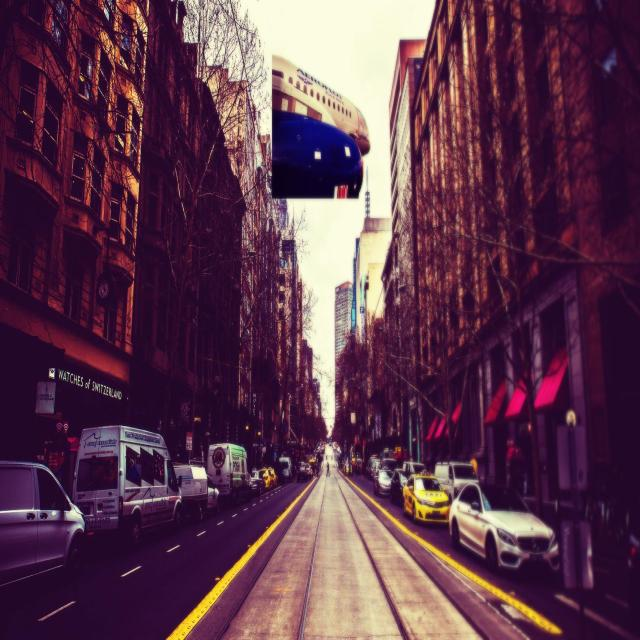airplane: (270, 53, 370, 200)
